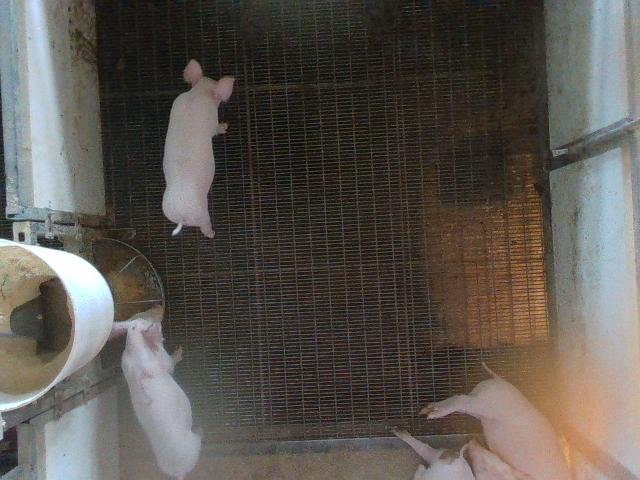pig-5: (111, 306, 201, 478)
